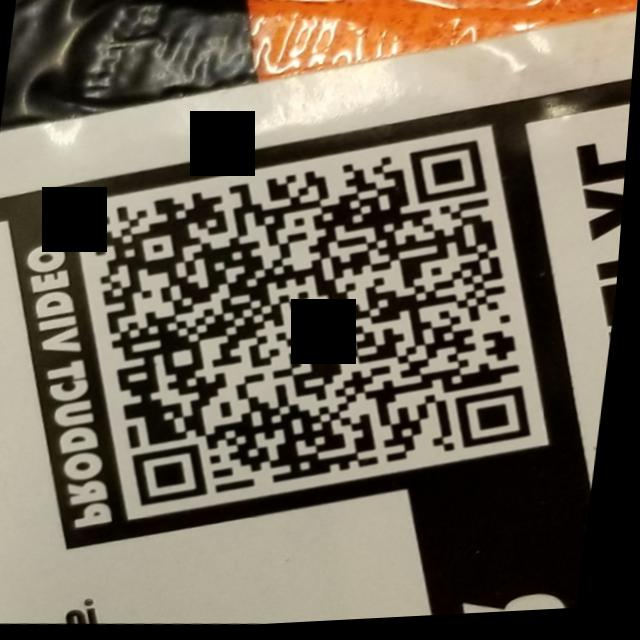QR_CODE: (49, 105, 583, 544)
